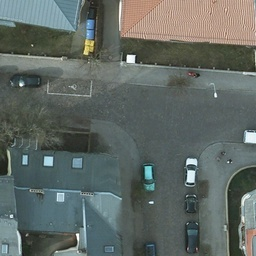car: (9, 73, 43, 90), (185, 220, 198, 254), (184, 156, 197, 188), (142, 162, 155, 193), (182, 192, 197, 217)
